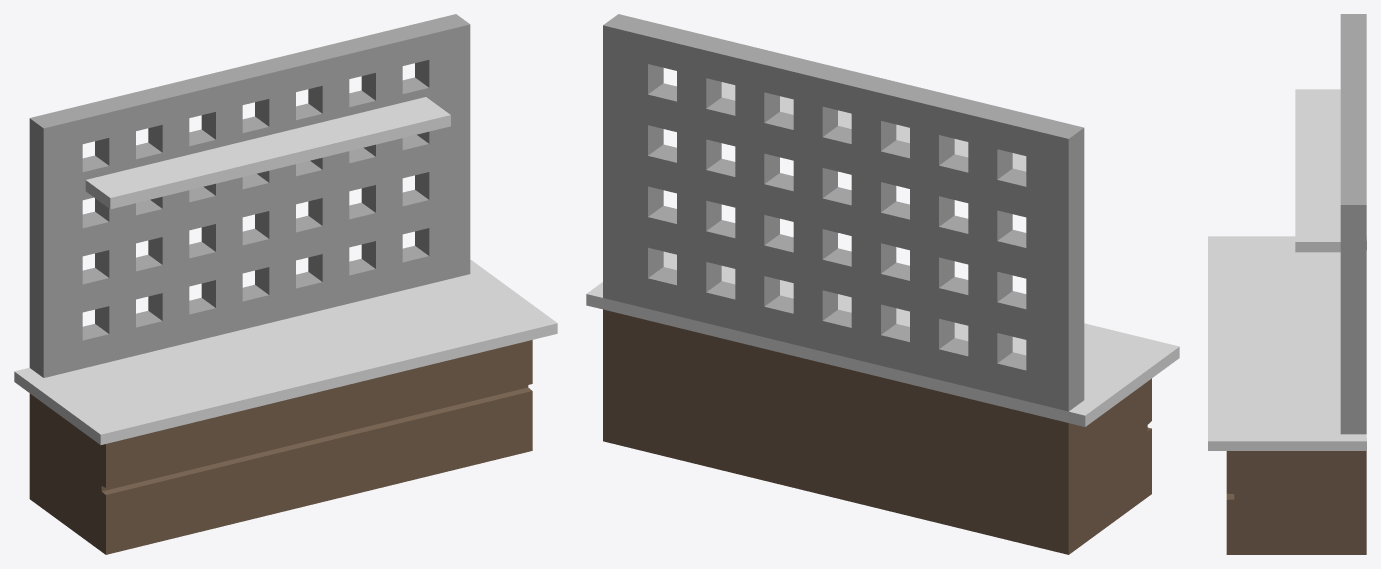
File: Tool Bench.fbx
3 renders of one model, left to right at view 1: azimuth 30°, elevation 25°; view 2: azimuth 150°, elevation 25°; view 3: azimuth 270°, elevation 25°, orthographic. The views are drawn at different scales.
Parts seen in each view (by area): view 1: pCube4; view 2: pCube4; view 3: pCube4.
Boxes of the visible parts, x1=… form: pCube4: x1=14, y1=14, x2=557, y2=554; pCube4: x1=586, y1=14, x2=1179, y2=554; pCube4: x1=1208, y1=14, x2=1366, y2=554.
Size of the model in its own units: 3.21 by 2.56 by 1.05.
